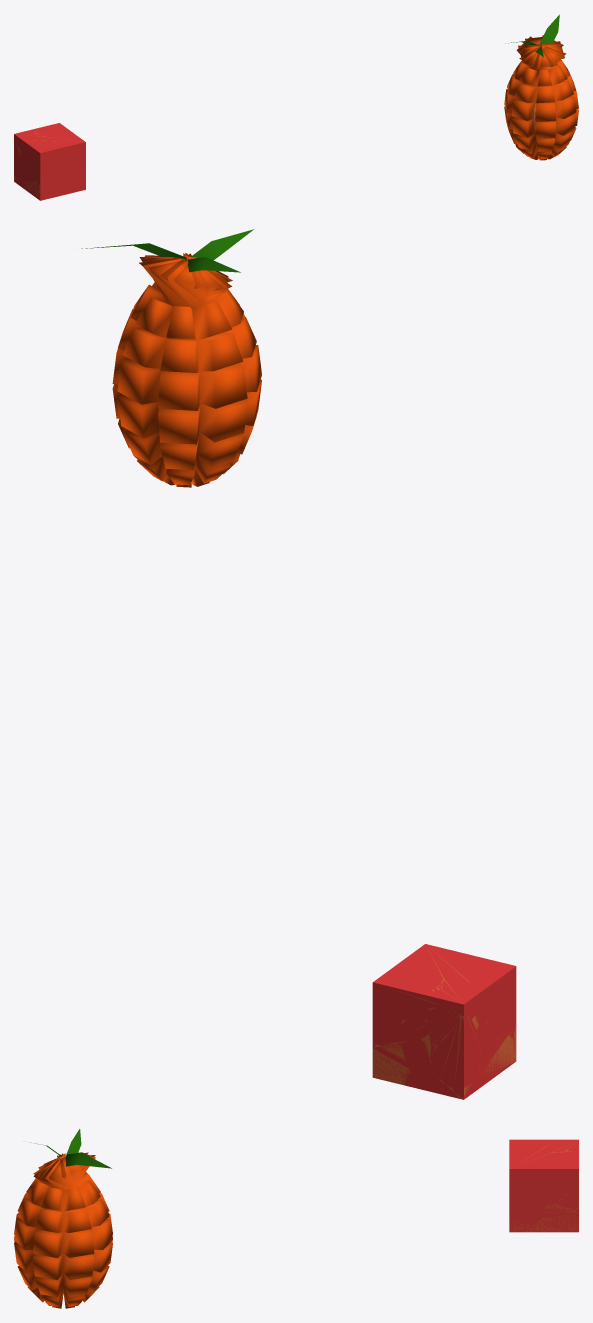
File: FruitBomb.gltf
3 renders of one model, top to bottom at view 1: azimuth 30°, elevation 25°; view 2: azimuth 150°, elevation 25°; view 3: azimuth 270°, elevation 25°, orthographic. The views are drawn at different scales.
Parts seen in each view (by area): view 1: Sphere, Cube.001, Cube.021, Plane.001, Cube.008, Cube.012; view 2: Sphere, Cube.001, Cube.012, Cube.021, Cube.008, Cube.010, Cube.009; view 3: Sphere, Cube.001, Cube.021, Cube.006, Cube.012, Cube.010, Plane.001.
Part boxes in pixels (left/top/right/bottom): Sphere: left=504, top=35, right=578, bottom=160; Cube.001: left=14, top=128, right=85, bottom=183; Cube.021: left=14, top=168, right=85, bottom=200; Plane.001: left=539, top=14, right=559, bottom=44; Cube.008: left=14, top=142, right=26, bottom=179; Cube.012: left=14, top=169, right=76, bottom=199; Sphere: left=112, top=253, right=261, bottom=487; Cube.001: left=389, top=944, right=516, bottom=1079; Cube.012: left=372, top=1029, right=516, bottom=1099; Cube.021: left=372, top=1023, right=516, bottom=1099; Cube.008: left=429, top=1011, right=490, bottom=1088; Cube.010: left=372, top=978, right=443, bottom=1023; Cube.009: left=372, top=1012, right=426, bottom=1045; Sphere: left=14, top=1152, right=112, bottom=1308; Cube.001: left=509, top=1139, right=578, bottom=1219; Cube.021: left=509, top=1203, right=578, bottom=1232; Cube.006: left=545, top=1162, right=576, bottom=1199; Cube.012: left=509, top=1203, right=578, bottom=1232; Cube.010: left=550, top=1149, right=578, bottom=1198; Plane.001: left=65, top=1152, right=111, bottom=1168.
Size of the model in its own units: 16.23 by 8.67 by 16.23.
